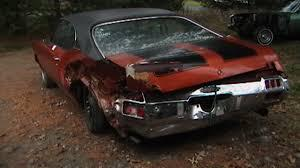Rear-windscreen-Damage: (94, 17, 219, 52)
rear-bumper-dent: (134, 86, 252, 126)
